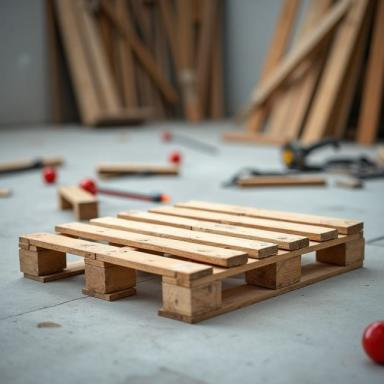pallet: (18, 200, 365, 324)
